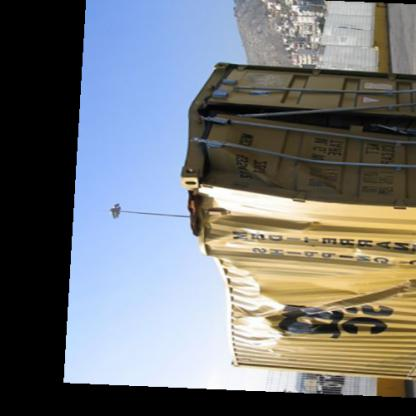Damage: (227, 279, 413, 344), (196, 95, 413, 148)
